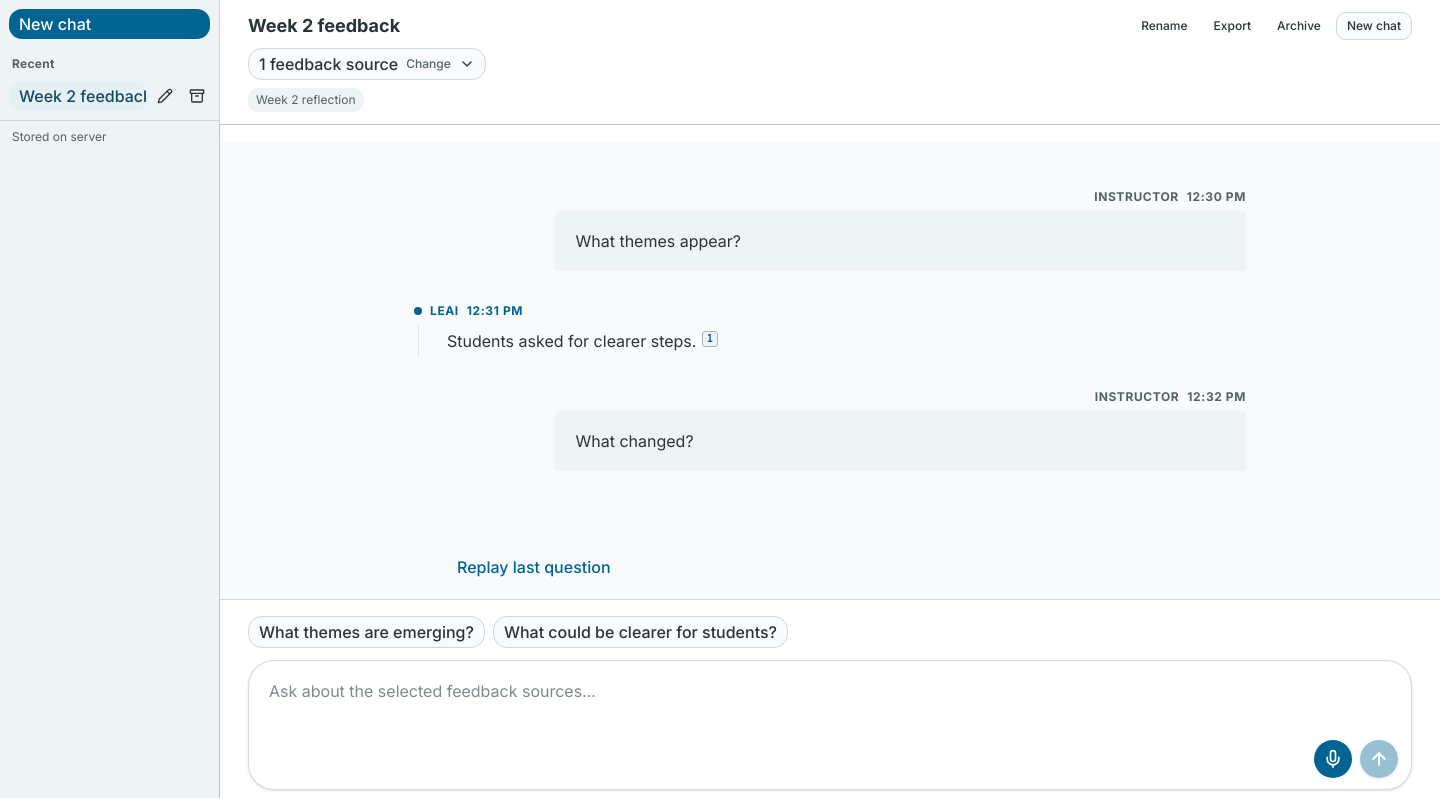
it: shows administrator cancellation and permits only a deliberate retry
Click the 1st button "New chat": click(110, 24) [8, 8, 211, 40]
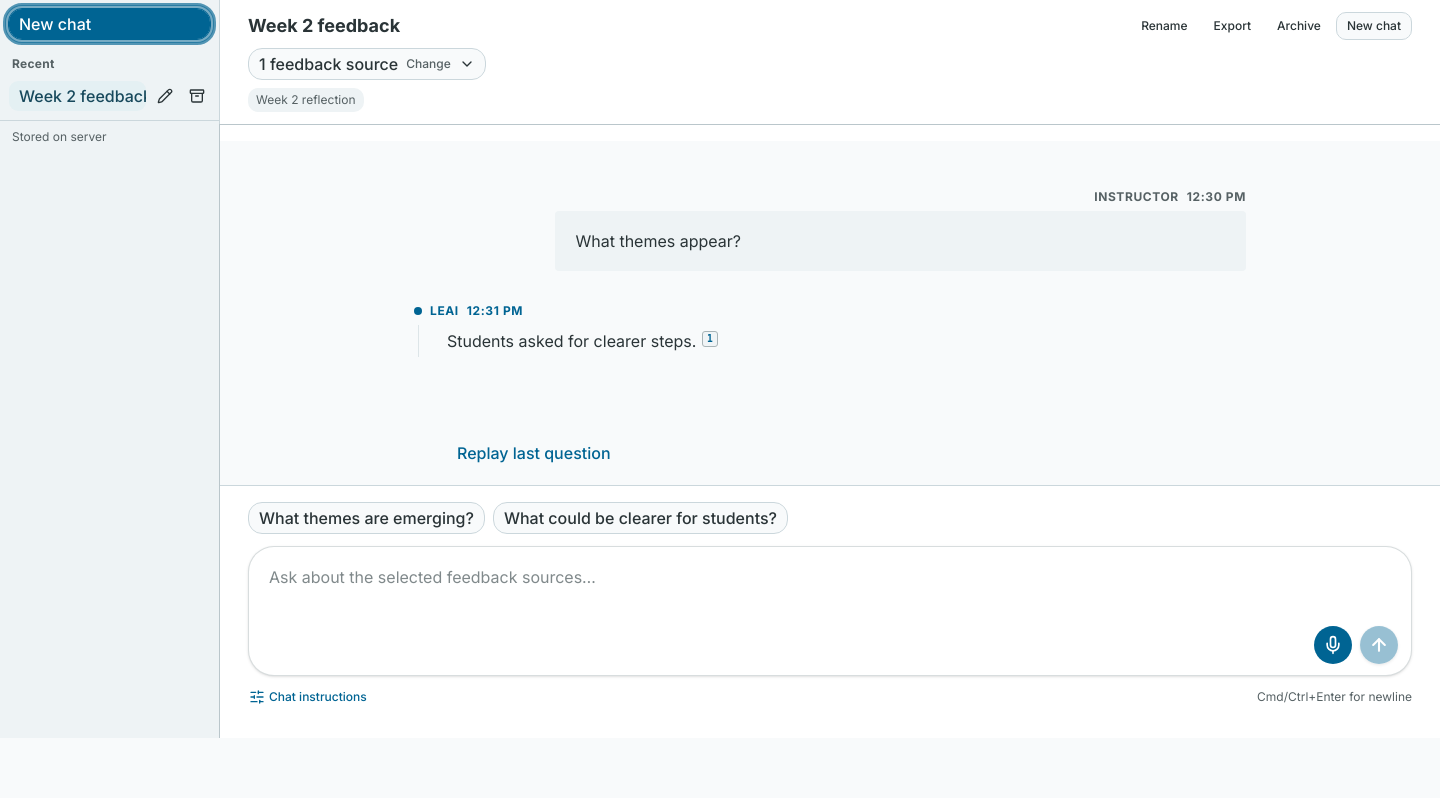
In the text box named "Message": (830, 589) [259, 557, 1401, 621], type "What changed?"
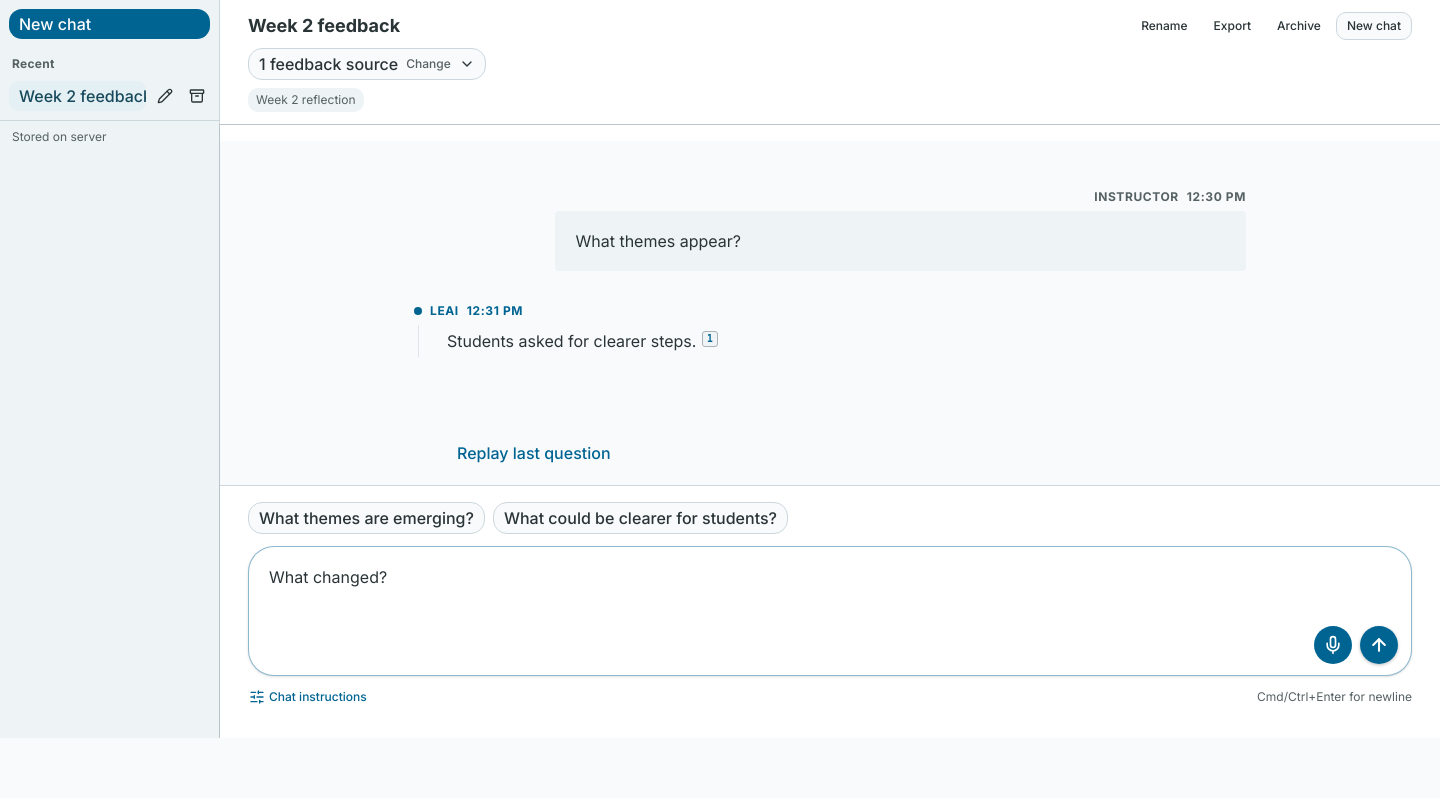
Click the button named "Send": click(1379, 645) [1359, 625, 1399, 665]
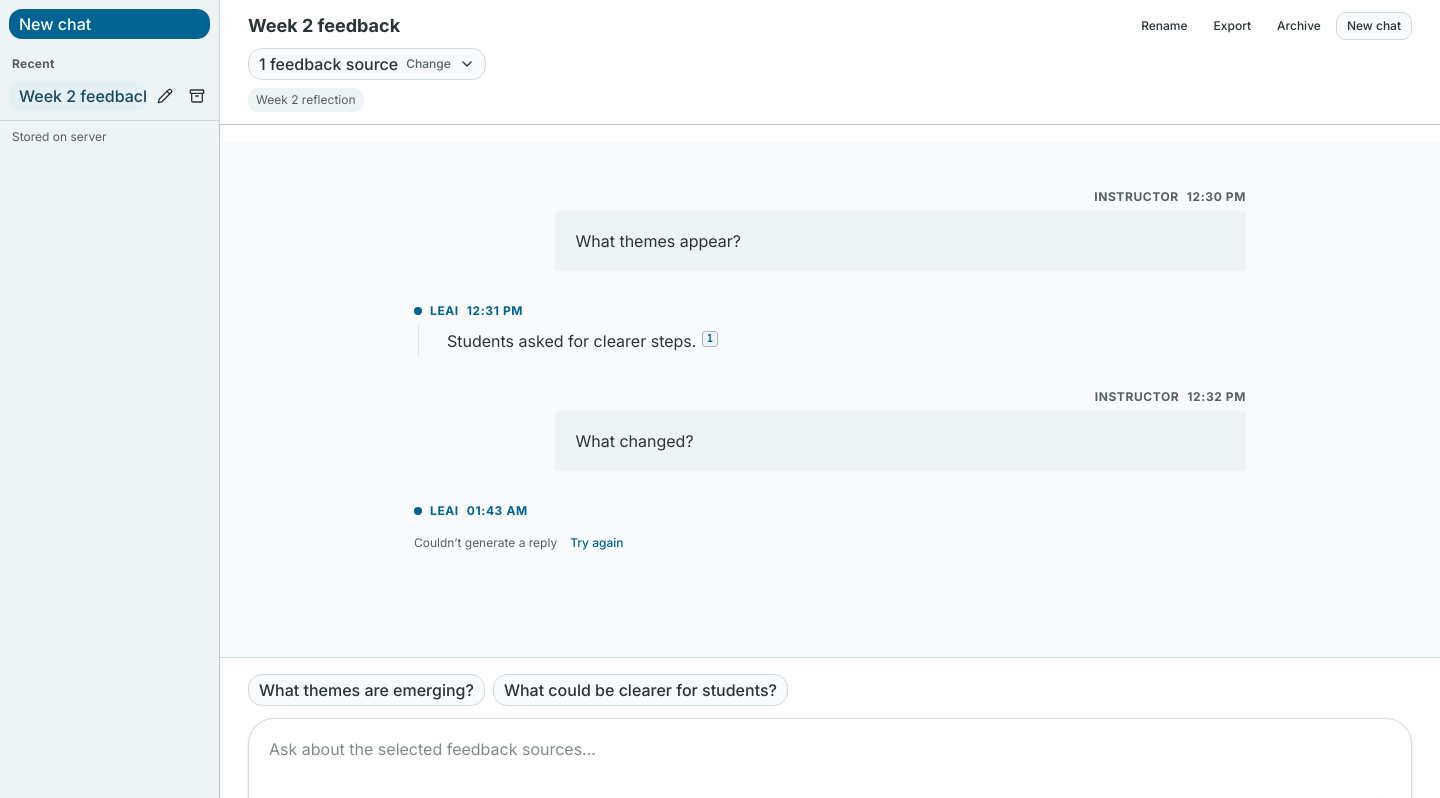
Expected: the number of buttons "Try again" is 1, [561, 525, 632, 561]
Expected: the button "Try again" is shown, [561, 525, 632, 561]
Expected: the number of messages is 1, [414, 525, 632, 561]
